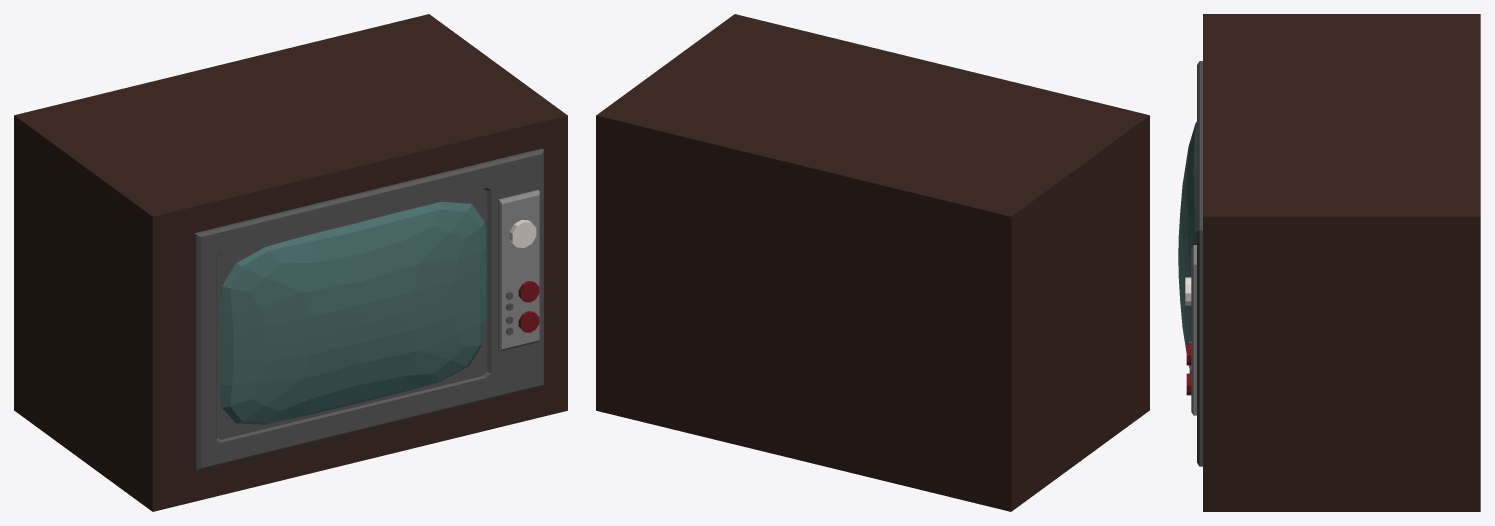
The model's file is Телевизор.fbx.
3 views of the same model, side by side, from view 1: azimuth 30°, elevation 25°; view 2: azimuth 150°, elevation 25°; view 3: azimuth 270°, elevation 25° (orthographic).
Parts seen in each view (by area): view 1: Cube.042; view 2: Cube.042; view 3: Cube.042.
Part boxes in pixels (x1,y1,x2,y2): Cube.042: [14, 14, 567, 511]; Cube.042: [596, 14, 1149, 511]; Cube.042: [1178, 14, 1480, 511].
Size of the model in its own units: 631 by 429 by 398.
